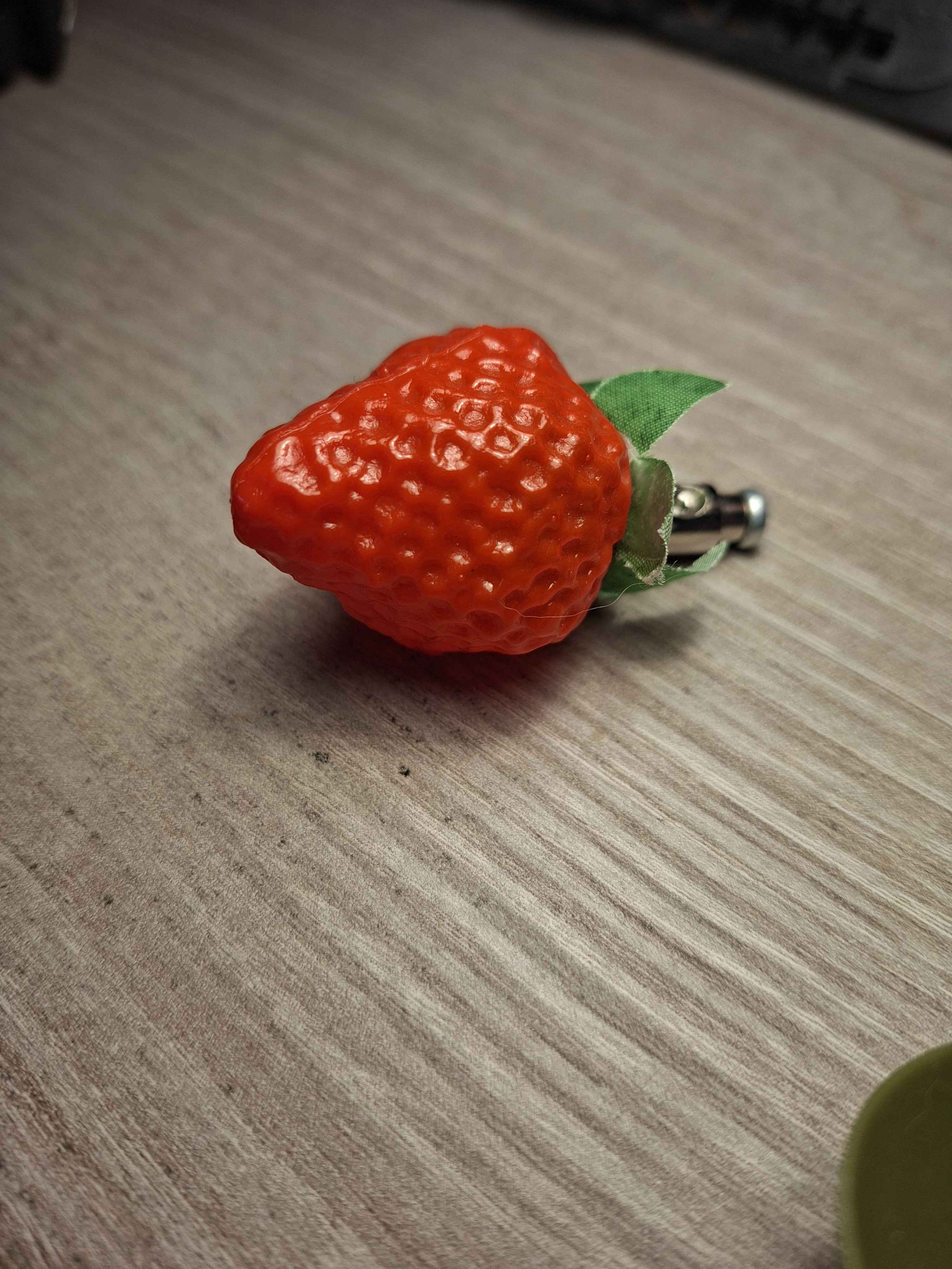Strawberry: (197, 282, 652, 688)
